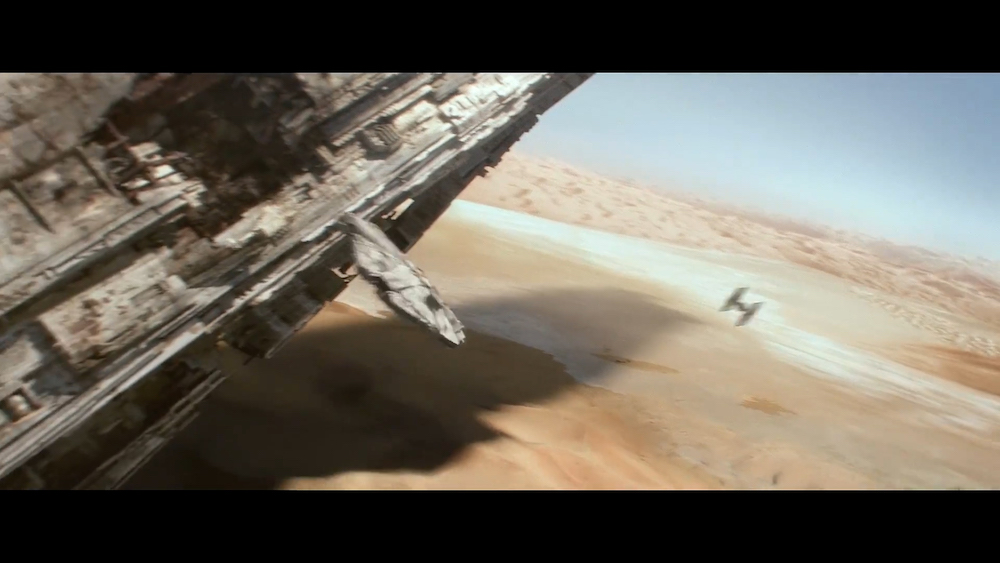Millennium Falcon: (334, 212, 468, 350)
Tie Fighter: (717, 286, 766, 329)
